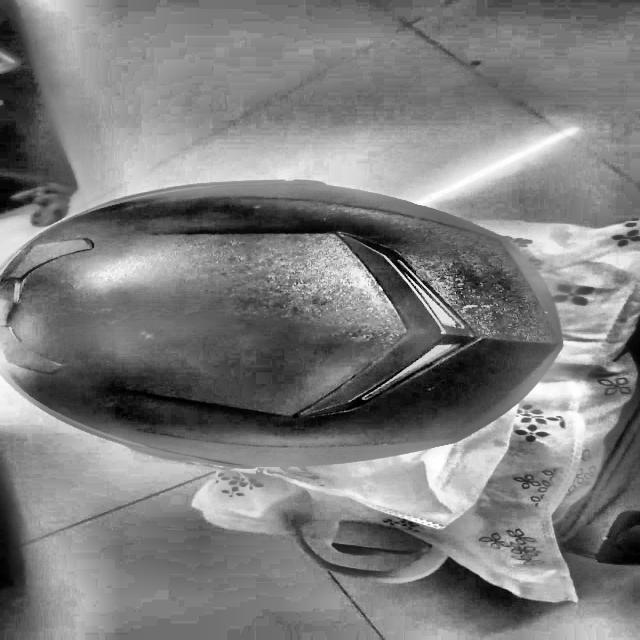Helmet: (0, 172, 561, 469)
